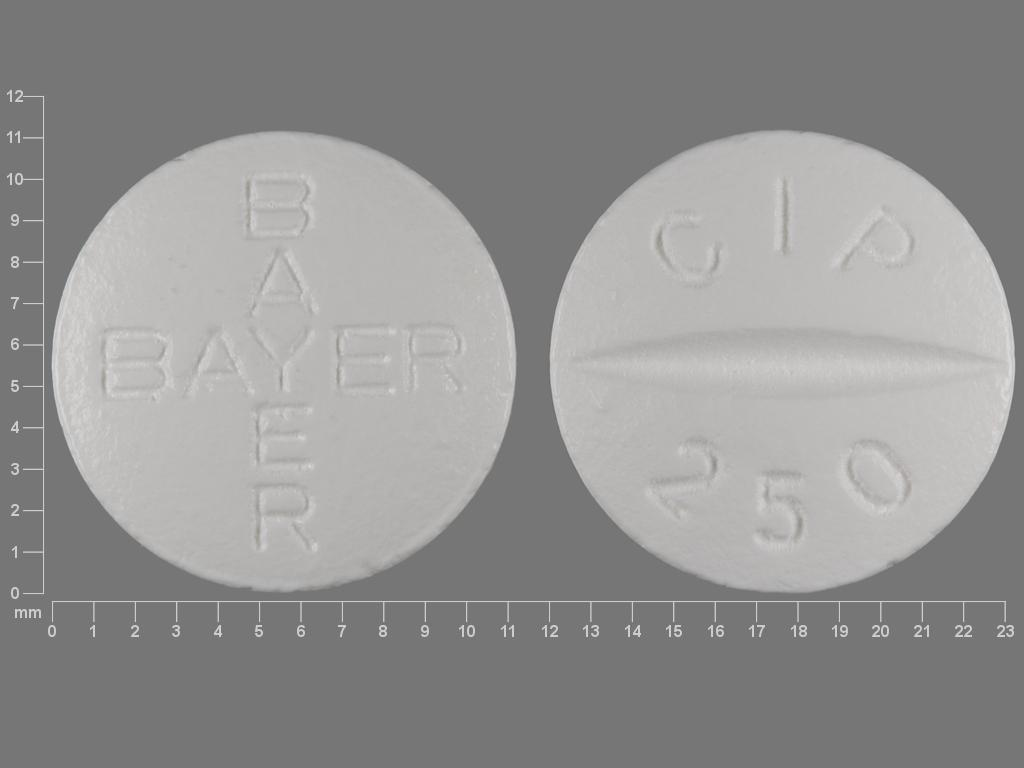Pill: (541, 113, 1024, 603), (46, 117, 527, 603)
